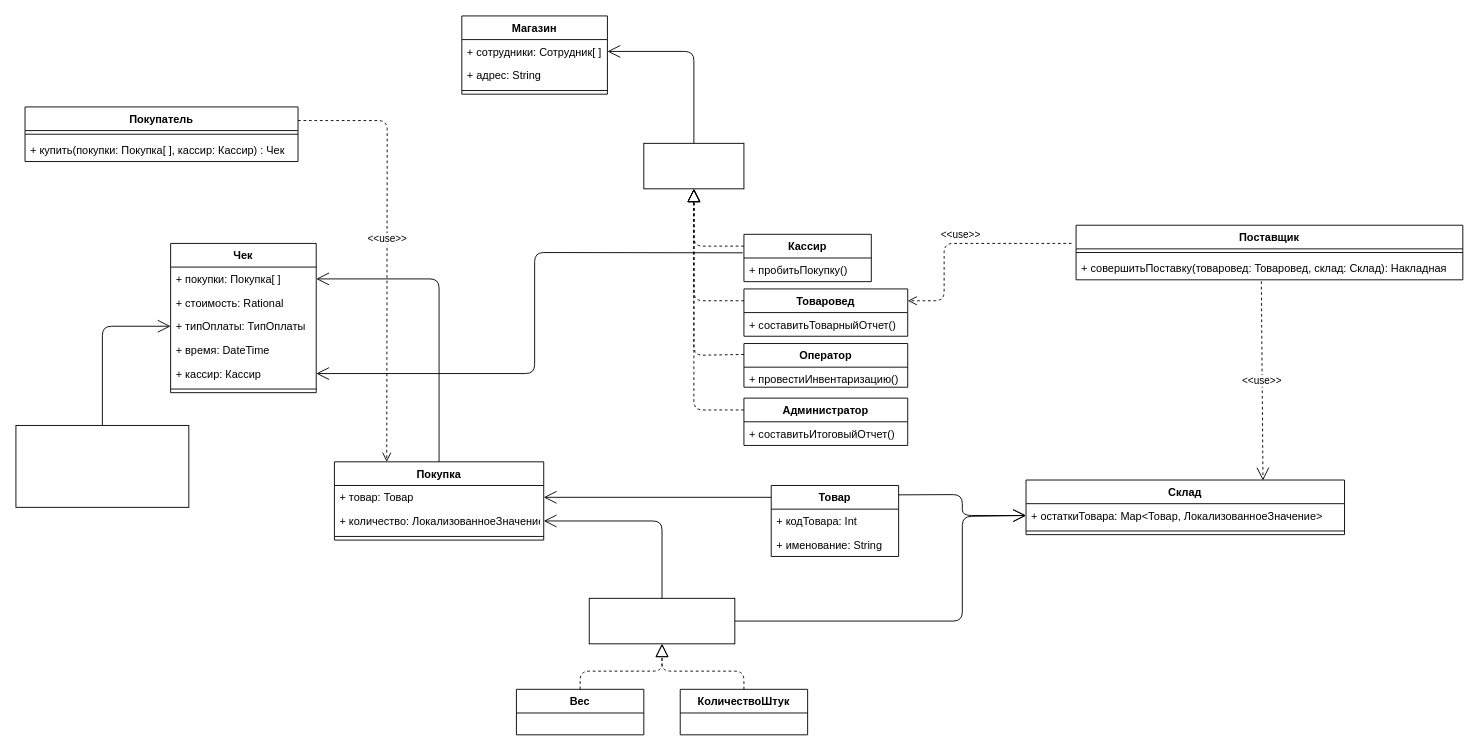
The diagram is 1479 pixels wide and 751 high, and some of its shapes have lost their labels. Each missing label, with the centre of its shape:
<<enumeration>> ТипОплаты + Наличная + Безналичная + Смешанная: point 102,466
«interface» ЛокализованноеЗначение: point 661,620
«interface» Сотрудник: point 693,165
